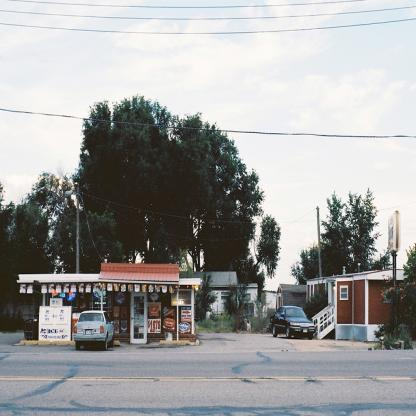Car: (269, 307, 315, 341), (70, 316, 111, 354)
